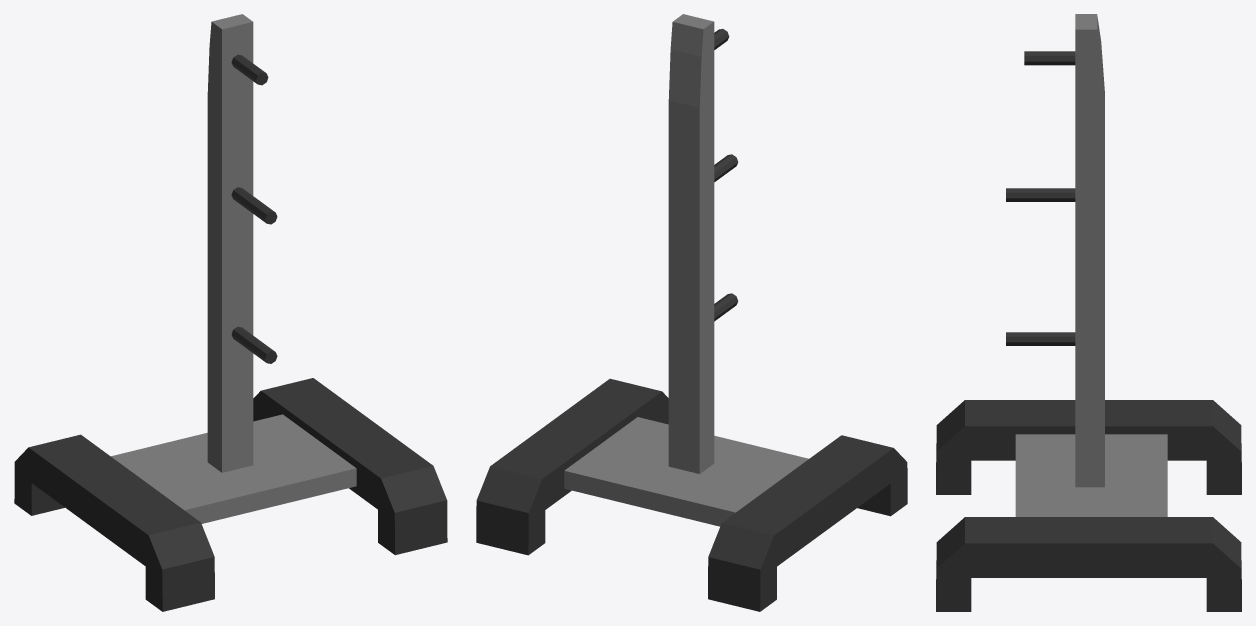
Rendered from weight-stand-1.glb.
The picture shows the model from 3 angles, left to right: view 1: azimuth 30°, elevation 25°; view 2: azimuth 150°, elevation 25°; view 3: azimuth 270°, elevation 25°; orthographic projection. The views are drawn at different scales.
Parts seen in each view (by area): view 1: Weight_Stand_1; view 2: Weight_Stand_1; view 3: Weight_Stand_1.
Part boxes in pixels (<box>): Weight_Stand_1: <box>14,14,447,611</box>; Weight_Stand_1: <box>476,14,907,611</box>; Weight_Stand_1: <box>936,14,1241,611</box>.
Size of the model in its own units: 71.79 by 121 by 64.68.
Materials: 1 (1 with a texture image).
